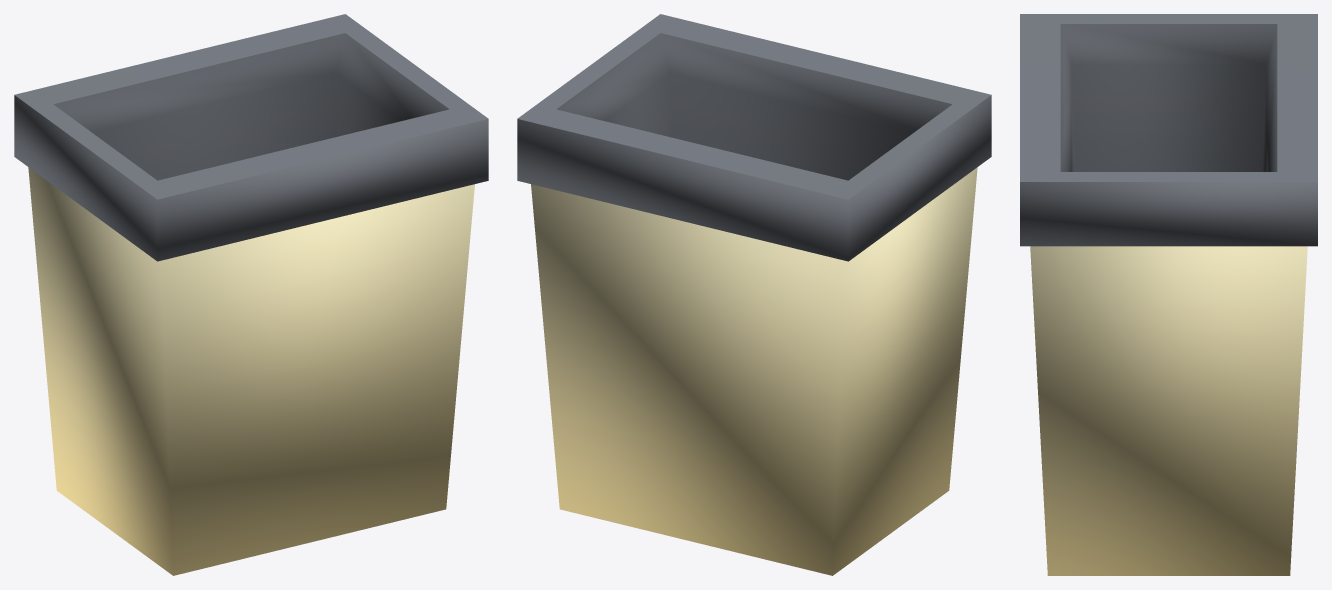
The model's file is TrashBin_Laundromat.fbx.
The picture shows the model from 3 angles, left to right: view 1: azimuth 30°, elevation 25°; view 2: azimuth 150°, elevation 25°; view 3: azimuth 270°, elevation 25°; orthographic projection. The views are drawn at different scales.
Parts seen in each view (by area): view 1: TrashBin.Laundromat, TrashBin_Trashbag.Laundromat; view 2: TrashBin.Laundromat, TrashBin_Trashbag.Laundromat; view 3: TrashBin.Laundromat, TrashBin_Trashbag.Laundromat.
Part boxes in pixels (x1,y1,x2,y2): TrashBin.Laundromat: (28,167,474,575); TrashBin_Trashbag.Laundromat: (14,14,488,261); TrashBin.Laundromat: (531,167,977,575); TrashBin_Trashbag.Laundromat: (517,14,991,261); TrashBin.Laundromat: (1030,246,1307,575); TrashBin_Trashbag.Laundromat: (1020,14,1317,246).
Bounding box in the file's own units: 74.2 × 84.15 × 55.56.
Materials: 1 (1 with a texture image).
